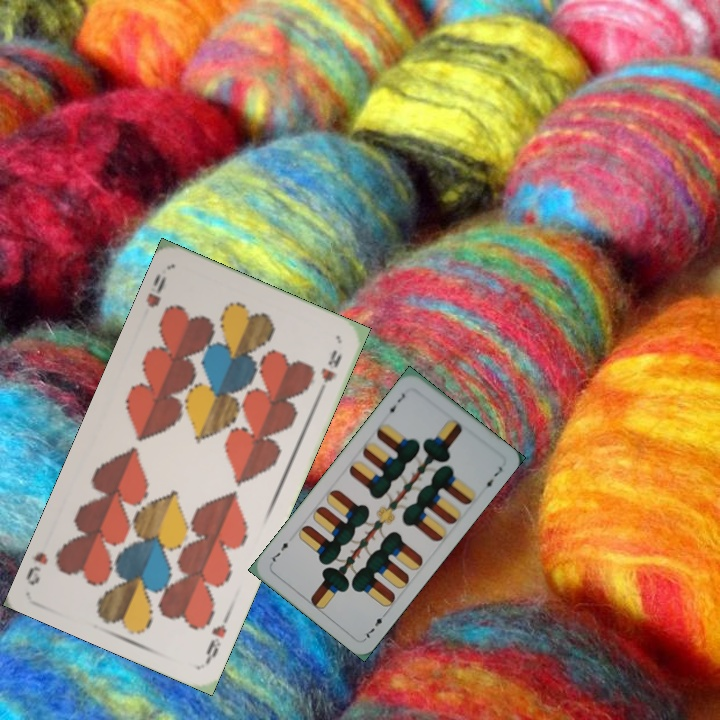E7: (360, 607, 390, 642), (382, 389, 408, 418)
H9: (202, 609, 232, 666), (142, 269, 169, 310)
